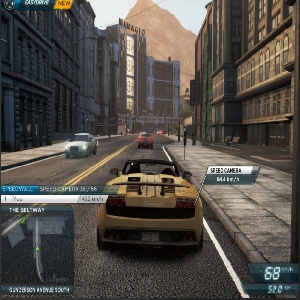building: (194, 15, 300, 142), (109, 22, 182, 129)
lamp post: (70, 31, 96, 135), (166, 81, 183, 143), (106, 93, 121, 138)
vehicle: (62, 130, 102, 158), (133, 131, 157, 149)
